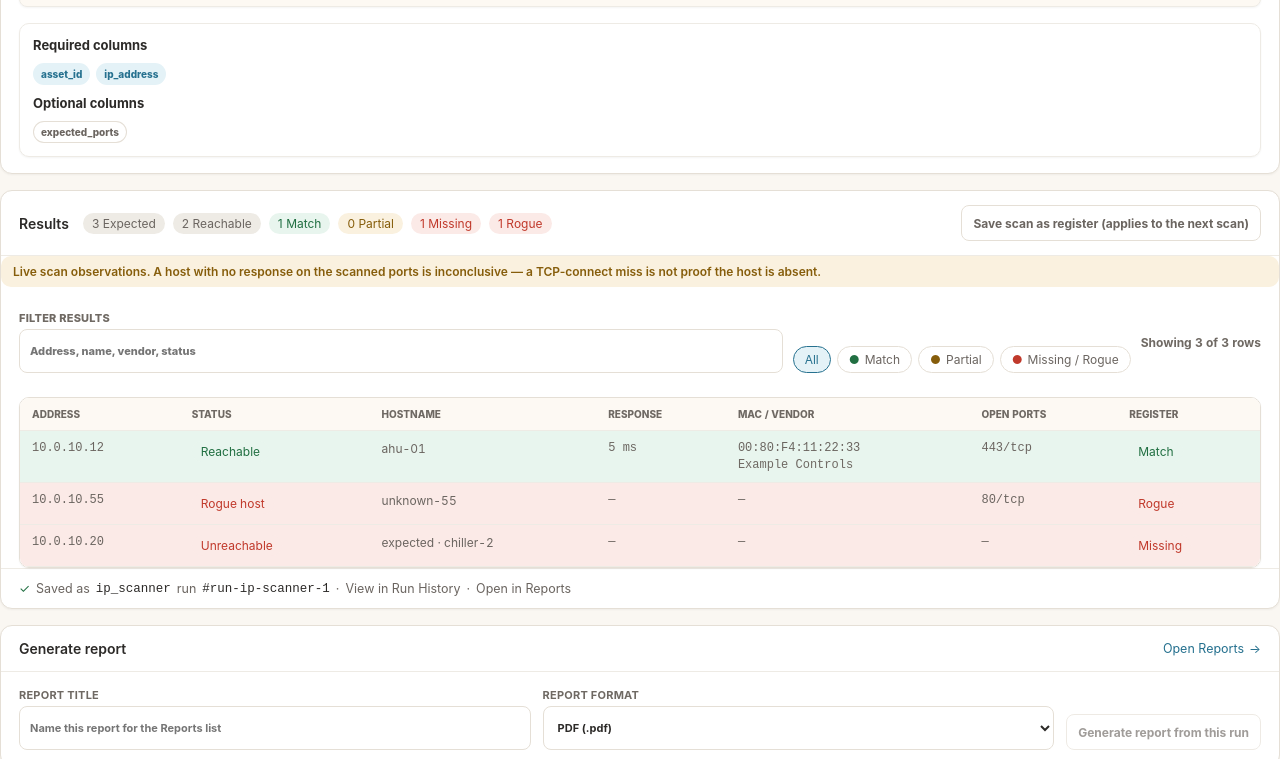
Test case: IpScannerPage › narrows the table with the RAG chip filter
(page scrolled)
Expected: the text "10.0.10.12" is shown, x1=20 y1=431 x2=180 y2=483
Expected: the text "Showing 3 of 3 rows" is shown, x1=1141 y1=335 x2=1261 y2=350
Click the button "● Match". click: (874, 360)
box: x1=837 y1=346 x2=912 y2=373
(page scrolled)
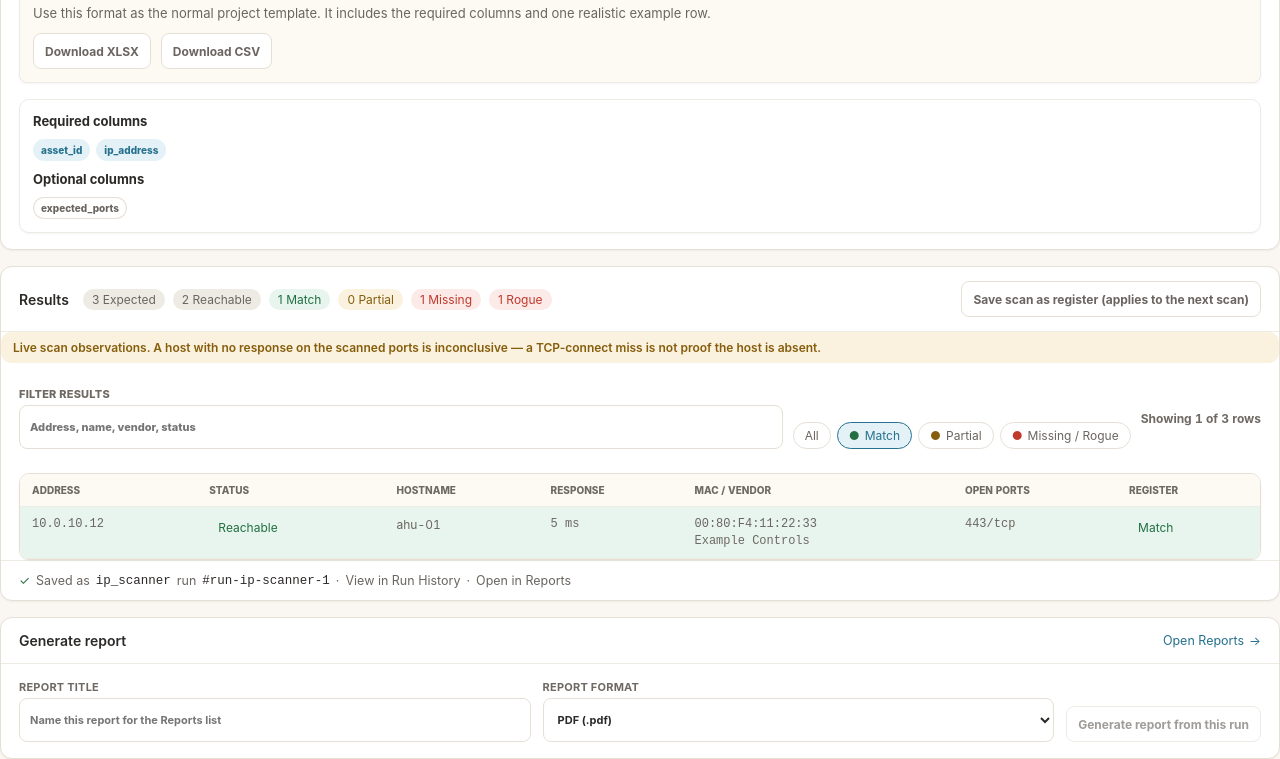
Expected: the text "10.0.10.12" is shown, x1=20 y1=507 x2=197 y2=559
Expected: the text "Showing 1 of 3 rows" is shown, x1=1141 y1=411 x2=1261 y2=426
Expected: the text "10.0.10.55" is gone
